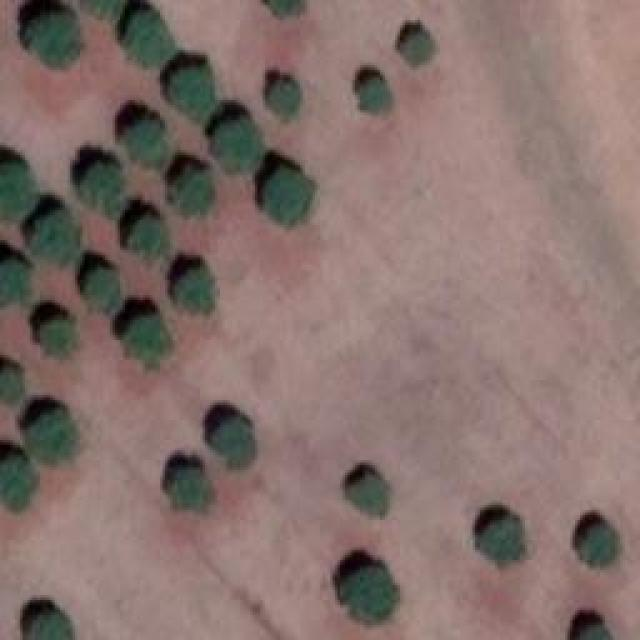Tree: (333, 565, 398, 620), (265, 165, 318, 228), (28, 407, 81, 465), (213, 117, 266, 175), (25, 13, 80, 68), (125, 5, 170, 65), (35, 205, 83, 260), (170, 63, 218, 118), (128, 315, 173, 370), (0, 158, 38, 221), (477, 520, 525, 568), (80, 163, 123, 216), (173, 165, 216, 218), (213, 415, 258, 465), (0, 450, 38, 508), (178, 263, 218, 318), (170, 465, 218, 510), (130, 210, 170, 263), (130, 120, 170, 173), (352, 473, 390, 518), (85, 267, 120, 315), (267, 80, 305, 123), (42, 318, 80, 358), (578, 527, 618, 565), (0, 255, 30, 305), (357, 77, 395, 115), (32, 607, 72, 640), (403, 35, 438, 68), (75, 0, 123, 20), (0, 368, 25, 403), (268, 0, 308, 18), (577, 622, 615, 640)
